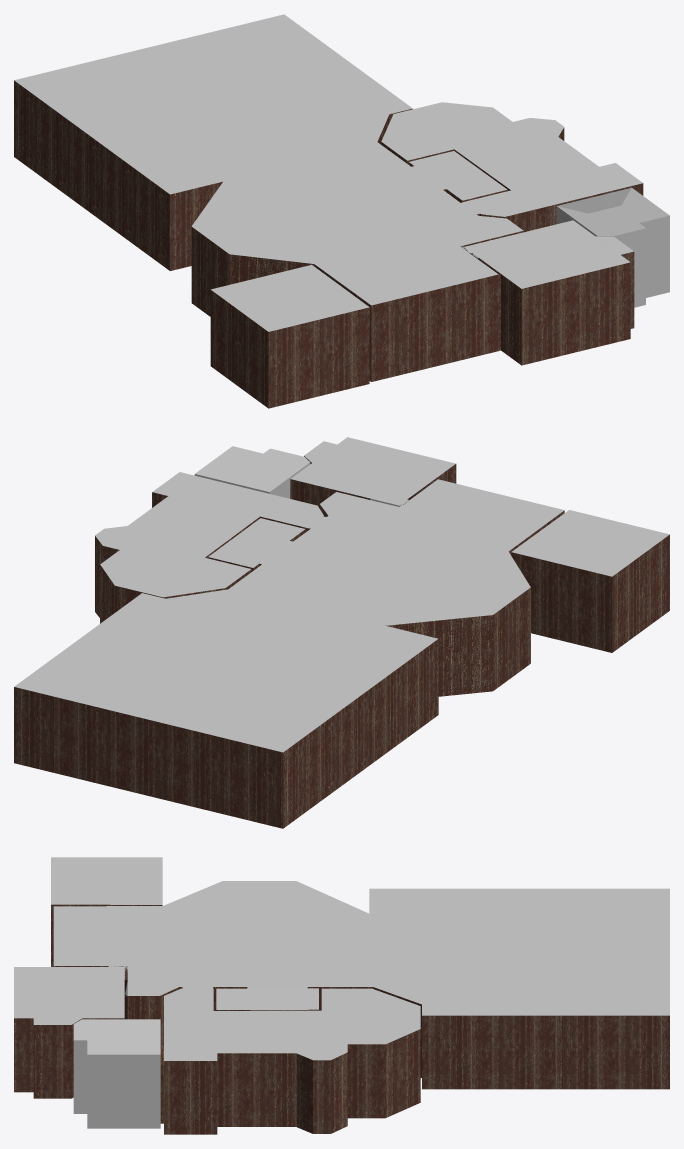
The model's file is segundoandar.fbx.
The picture shows the model from 3 angles, top to bottom: view 1: azimuth 30°, elevation 25°; view 2: azimuth 150°, elevation 25°; view 3: azimuth 270°, elevation 25°; orthographic projection. The views are drawn at different scales.
Parts seen in each view (by area): view 1: segundo andar; view 2: segundo andar; view 3: segundo andar.
Boxes of the visible parts, x1=… form: segundo andar: x1=14, y1=14, x2=669, y2=408; segundo andar: x1=14, y1=437, x2=669, y2=828; segundo andar: x1=14, y1=857, x2=669, y2=1134.
Size of the model in its own units: 1779 by 303 by 2421.
